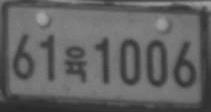0: (146, 40, 168, 87), (119, 39, 140, 85)
1: (91, 37, 114, 84), (38, 34, 59, 82)
6: (173, 41, 196, 88), (13, 34, 34, 80)
육: (63, 45, 88, 83)
